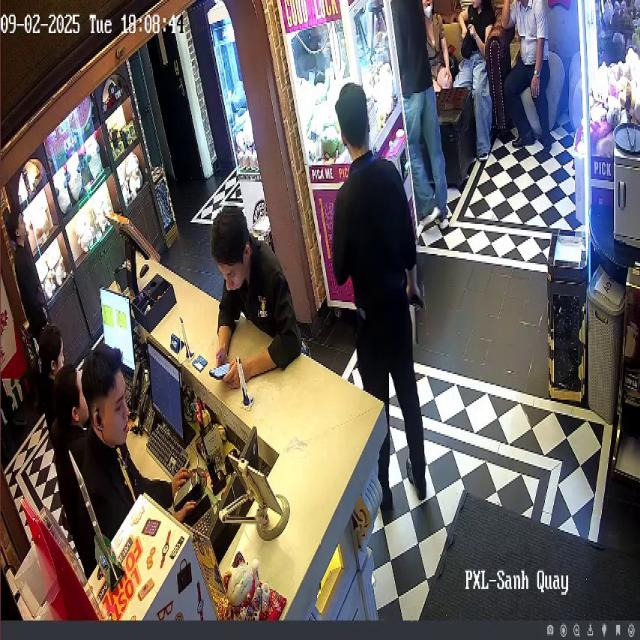khach: (387, 0, 459, 221), (506, 0, 565, 159), (460, 0, 497, 159), (415, 0, 456, 101)
nhan vien: (328, 74, 442, 508), (188, 183, 302, 436), (82, 328, 187, 540), (56, 355, 90, 597), (39, 308, 64, 445)
